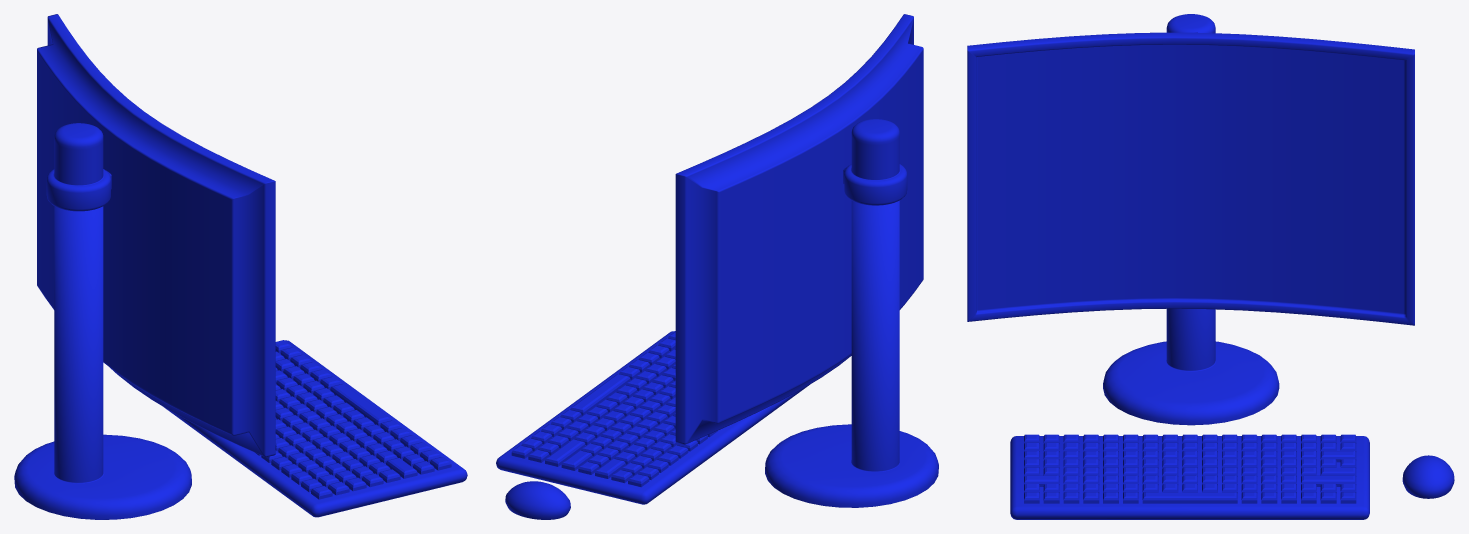
File: ordenadorEsp.fbx
3 renders of one model, left to right at view 1: azimuth 30°, elevation 25°; view 2: azimuth 150°, elevation 25°; view 3: azimuth 270°, elevation 25°, orthographic. The views are drawn at different scales.
Parts seen in each view (by area): view 1: Cube, Cube.001, Plane, Cube.002; view 2: Cube, Cube.001, Plane, Cube.002, Sphere; view 3: Cube, Plane, Cube.001, Cube.002, Sphere.
Part boxes in pixels (x1,y1,x2,y2): Cube: [37, 14, 275, 457]; Cube.001: [14, 123, 191, 519]; Plane: [255, 340, 451, 499]; Cube.002: [164, 340, 467, 517]; Cube: [675, 14, 923, 444]; Cube.001: [765, 119, 938, 507]; Plane: [511, 331, 719, 487]; Cube.002: [496, 331, 808, 504]; Sphere: [505, 481, 570, 519]; Cube: [967, 32, 1414, 325]; Plane: [1024, 434, 1356, 503]; Cube.001: [1103, 14, 1279, 425]; Cube.002: [1010, 436, 1369, 519]; Sphere: [1402, 455, 1454, 498].
Bounding box in the file's own units: 185 × 186 × 223.
